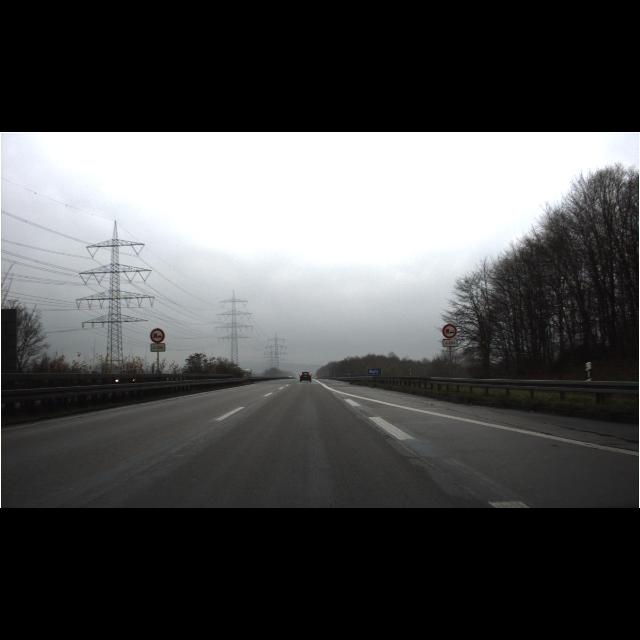prohibitory: (150, 328, 164, 344), (442, 324, 456, 338)
